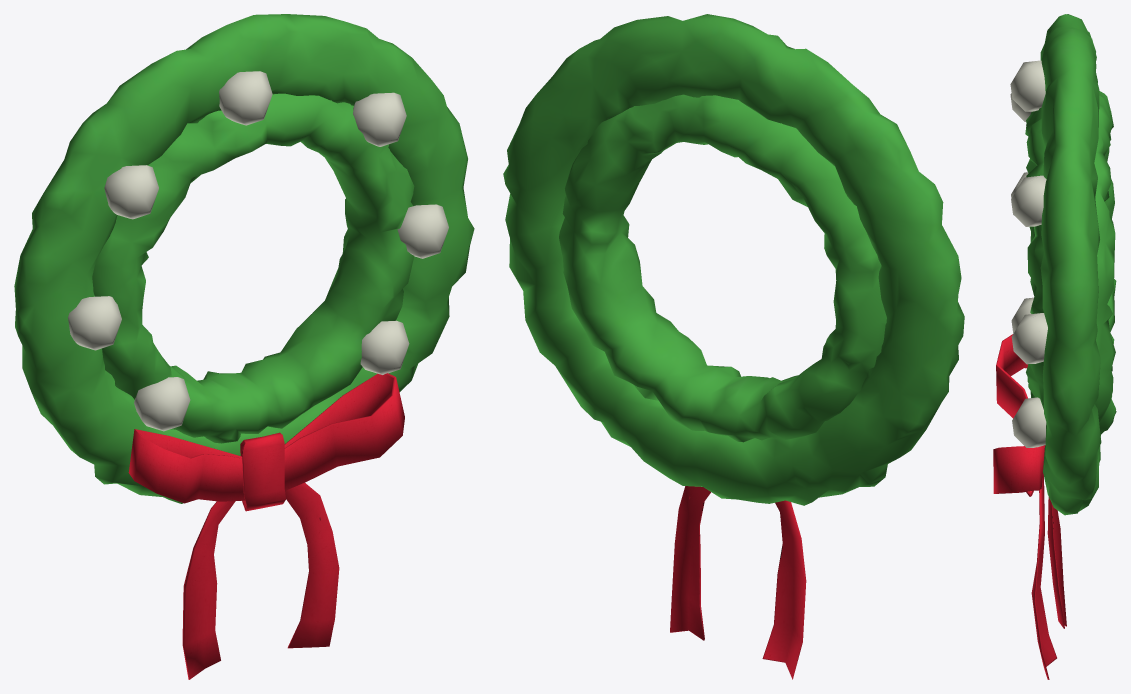
Rendered from Wreath.glb.
3 views of the same model, side by side, from view 1: azimuth 30°, elevation 25°; view 2: azimuth 150°, elevation 25°; view 3: azimuth 270°, elevation 25° (orthographic). The views are drawn at different scales.
Visible parts, largest first — view 1: Wreath_Baked, Ribbon Red_Baked, Snowballs_Baked; view 2: Wreath_Baked, Ribbon Red_Baked; view 3: Wreath_Baked, Ribbon Red_Baked, Snowballs_Baked.
Boxes of the visible parts, x1=… form: Wreath_Baked: x1=14, y1=14, x2=474, y2=503; Ribbon Red_Baked: x1=128, y1=373, x2=404, y2=679; Snowballs_Baked: x1=68, y1=71, x2=448, y2=431; Wreath_Baked: x1=503, y1=14, x2=964, y2=505; Ribbon Red_Baked: x1=670, y1=486, x2=806, y2=679; Wreath_Baked: x1=1025, y1=14, x2=1116, y2=515; Ribbon Red_Baked: x1=993, y1=334, x2=1066, y2=679; Snowballs_Baked: x1=1010, y1=60, x2=1047, y2=447.
Size of the model in its own units: 0.0105 by 0.0143 by 0.00258.
Materials: 3 (3 with a texture image).
